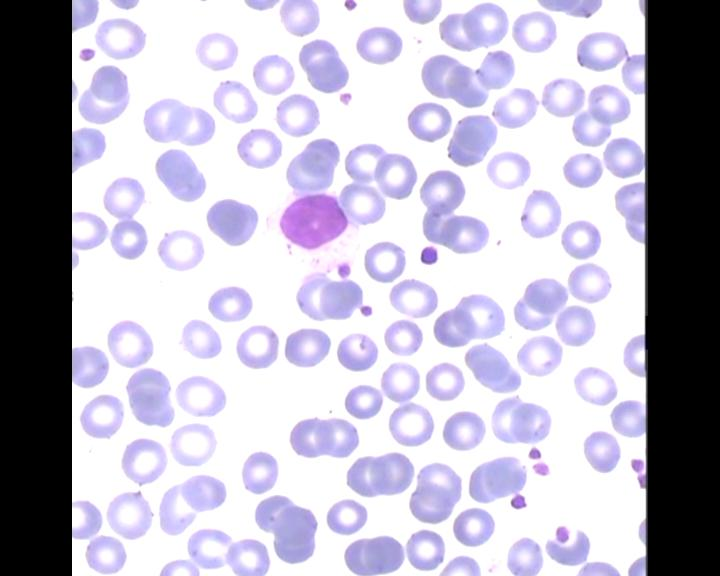mono: (257, 185, 356, 270)
